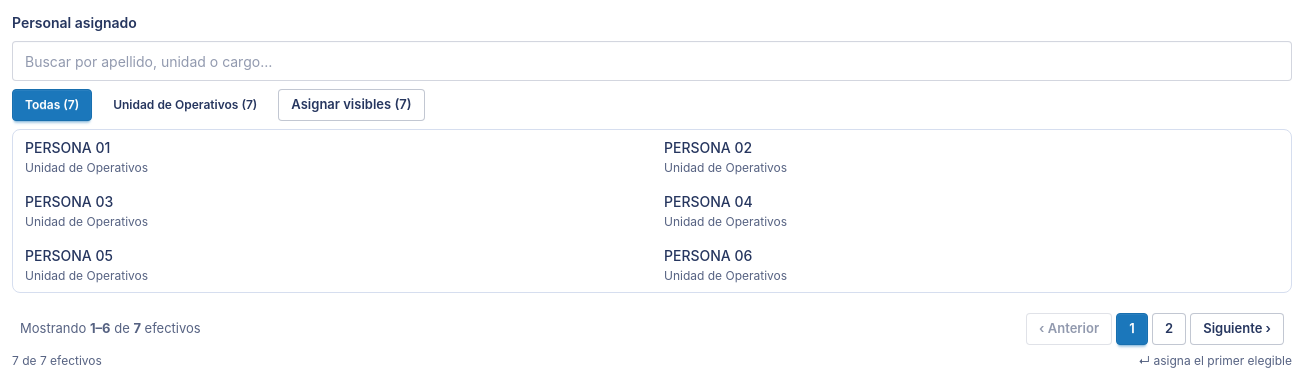
Test case: caso 7 · el personal y el rechazo al asignar › al buscar, la caja vuelve a la primera página
Note: Se pasa a la página 2 (donde está el séptimo)…
Click the button "Siguiente ›" at x=1237, y=329, box [1190,313,1284,345]
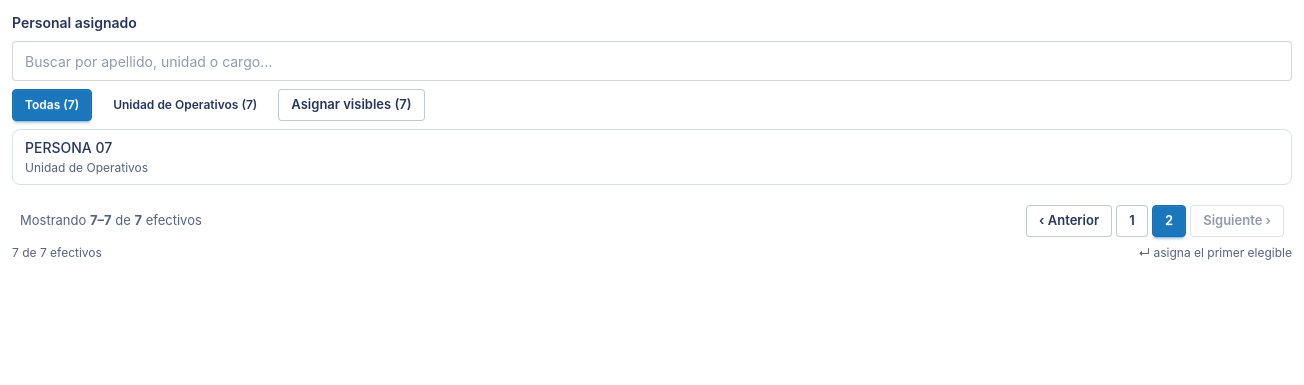
Check: the text "PERSONA 07" is shown, box [25,138,112,158]
Note: …y al filtrar a un solo resultado, se vuelve a la primera y se ve.
Type "PERSONA 03" into the search field with placeholder "Buscar por apellido, unidad o cargo…" at x=652, y=61, box [12,41,1292,81]
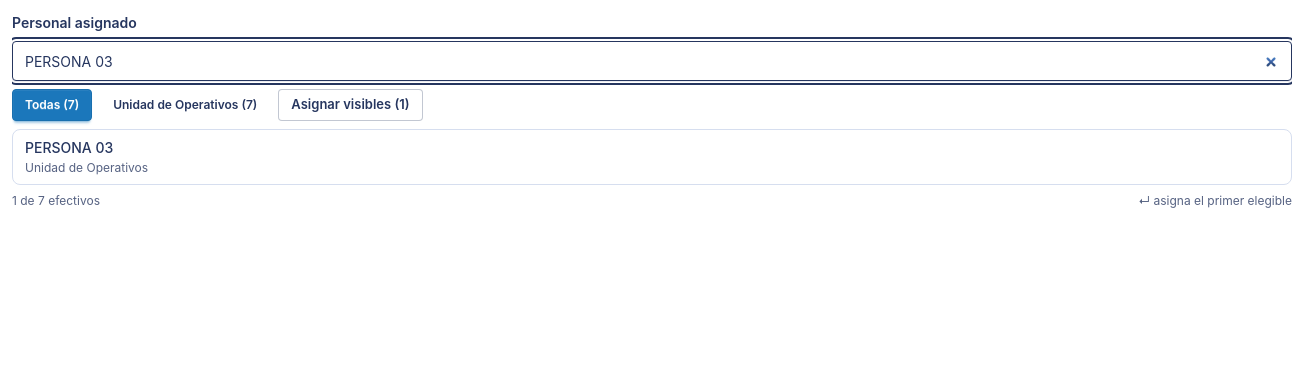
Check: the text "PERSONA 03" is shown, box [25,138,113,158]
